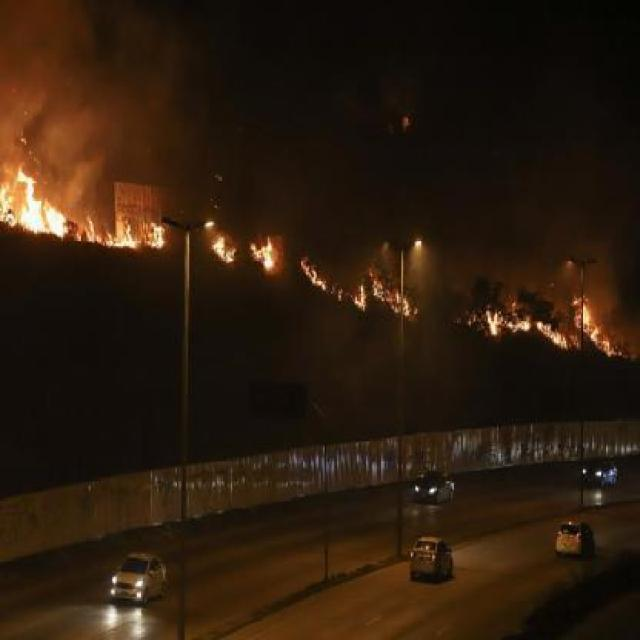Fire: (470, 304, 575, 350), (13, 171, 73, 242), (576, 298, 616, 357), (366, 268, 412, 316), (81, 214, 136, 248), (250, 232, 276, 272), (300, 258, 326, 290), (210, 234, 236, 260), (352, 282, 368, 312), (1, 184, 12, 224), (150, 222, 164, 250)
